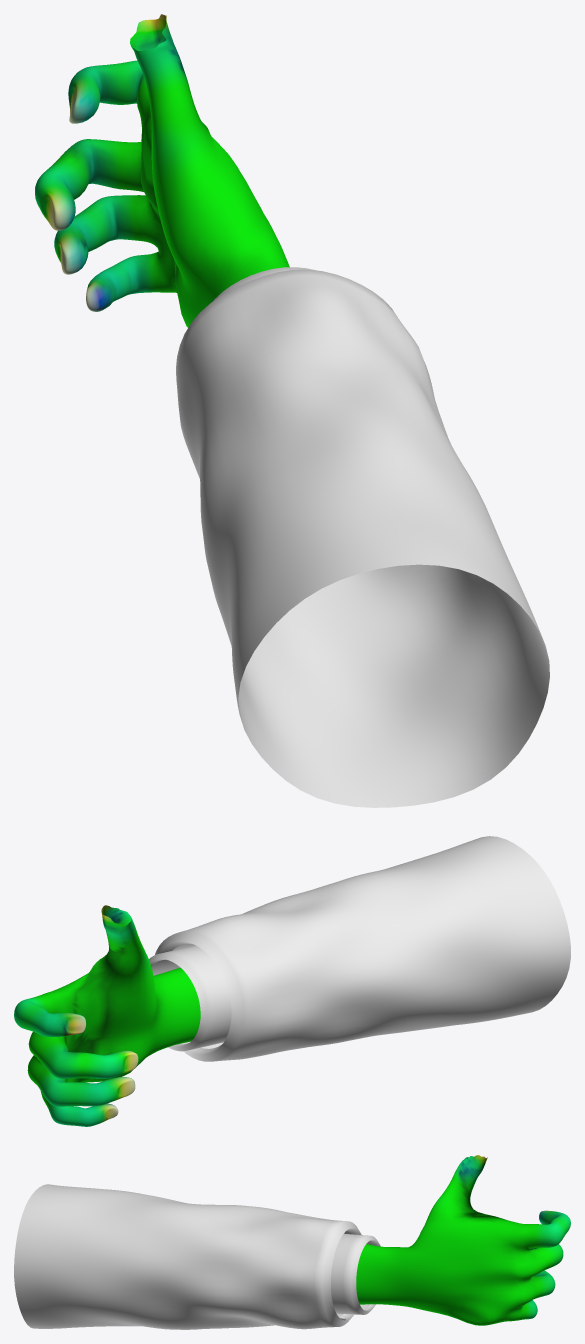
File: hand_makehuman.glb
3 renders of one model, top to bottom at view 1: azimuth 30°, elevation 25°; view 2: azimuth 150°, elevation 25°; view 3: azimuth 270°, elevation 25°, orthographic. The views are drawn at different scales.
Visible parts, largest first — view 1: Sleeve, Hand; view 2: Sleeve, Hand, Cuff; view 3: Sleeve, Hand, Cuff.
Boxes of the visible parts, box(x1,y1,x2,y2) form: Sleeve: box(176, 269, 549, 807); Hand: box(35, 14, 289, 327); Sleeve: box(155, 836, 570, 1061); Hand: box(14, 905, 200, 1126); Cuff: box(149, 945, 231, 1051); Sleeve: box(14, 1184, 361, 1329); Hand: box(356, 1155, 570, 1325); Cuff: box(331, 1233, 380, 1314).
Bounding box in the file's own units: 0.1934 × 0.1861 × 0.4396.
